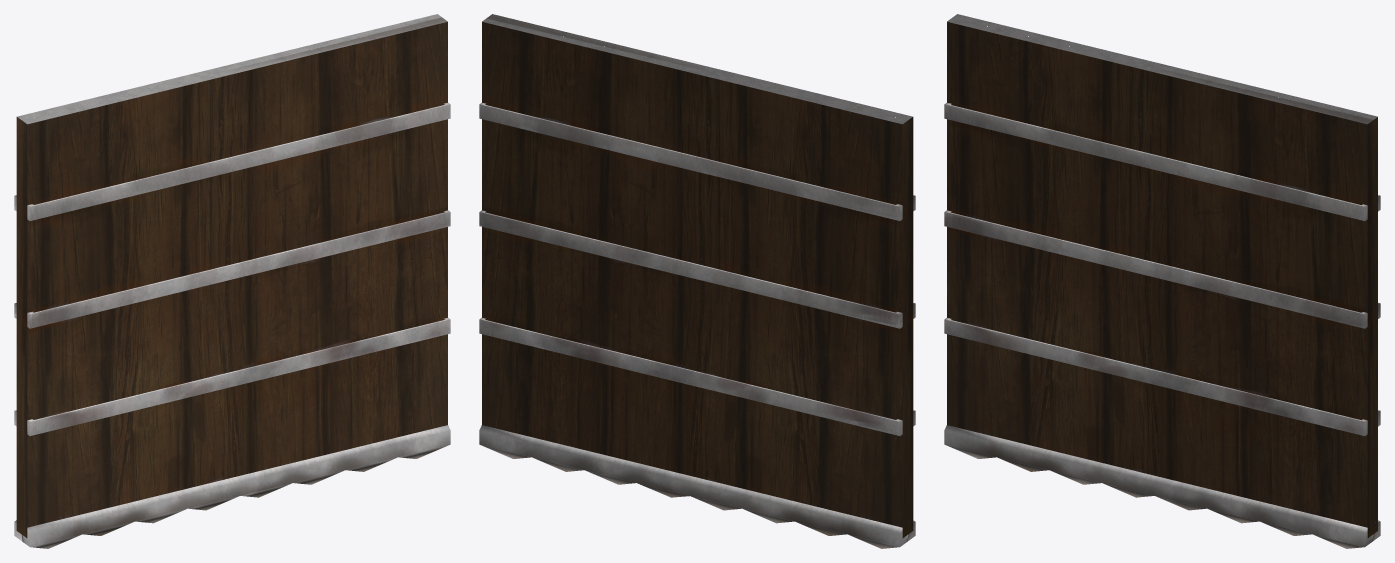
Rendered from wood door .fbx.
3 renders of one model, left to right at view 1: azimuth 30°, elevation 25°; view 2: azimuth 150°, elevation 25°; view 3: azimuth 330°, elevation 25°, orthographic.
Parts seen in each view (by area): view 1: wood_door; view 2: wood_door; view 3: wood_door.
Part boxes in pixels (x1,y1,x2,y2): wood_door: [14, 14, 450, 548]; wood_door: [479, 14, 915, 548]; wood_door: [944, 14, 1380, 548].
Size of the model in its own units: 20.03 by 19.78 by 1.29.
